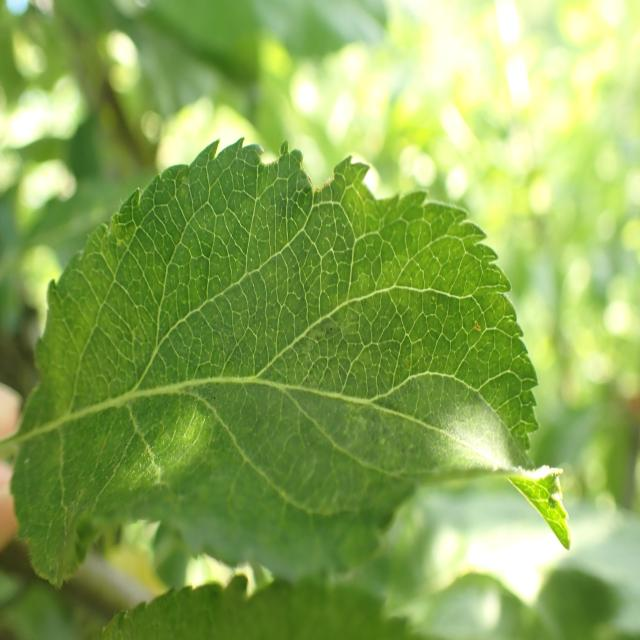scab: (211, 243, 559, 535)
